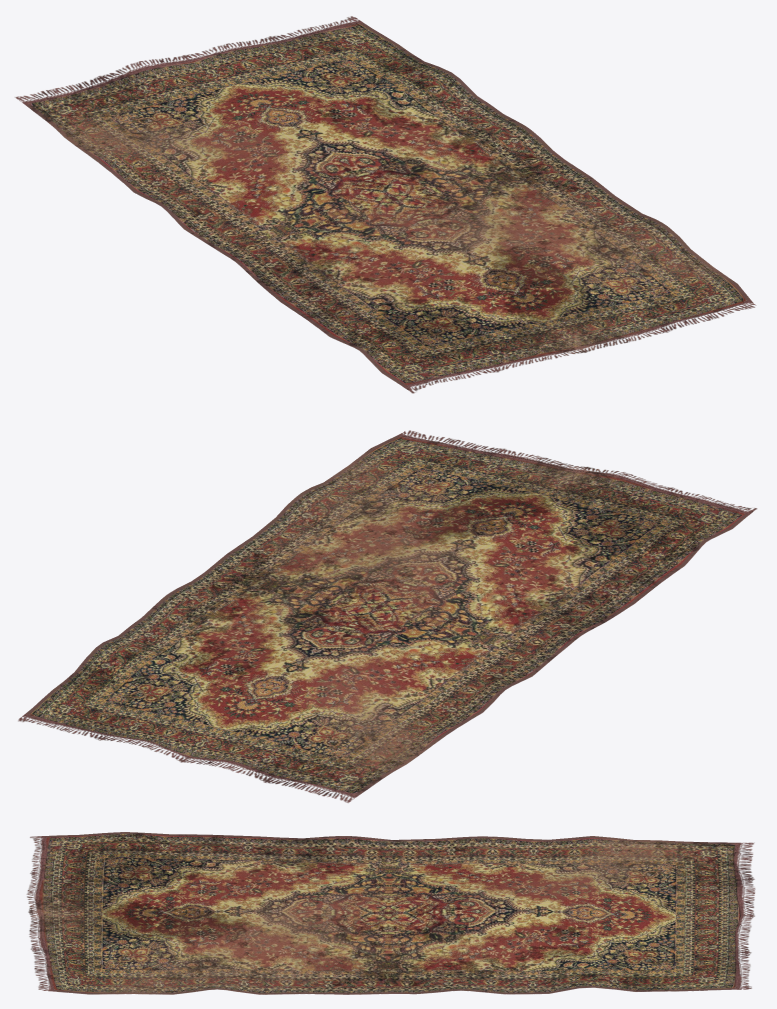
File: xi_oam_rug.gltf
3 views of the same model, one above another, from view 1: azimuth 30°, elevation 25°; view 2: azimuth 150°, elevation 25°; view 3: azimuth 270°, elevation 25° (orthographic). The views are drawn at different scales.
Visible parts, largest first — view 1: xi_oam_rug; view 2: xi_oam_rug; view 3: xi_oam_rug.
Part boxes in pixels (x1=…): xi_oam_rug: x1=15, y1=16, x2=755, y2=393; xi_oam_rug: x1=18, y1=430, x2=757, y2=802; xi_oam_rug: x1=26, y1=832, x2=755, y2=994.
Bounding box in the file's own units: 1.58 × 0.0394 × 3.16.
Materials: 1 (1 with a texture image).
